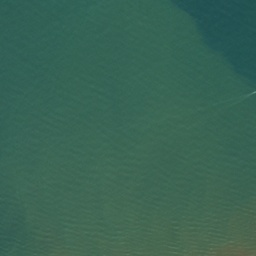Ship: (229, 88, 256, 106)
